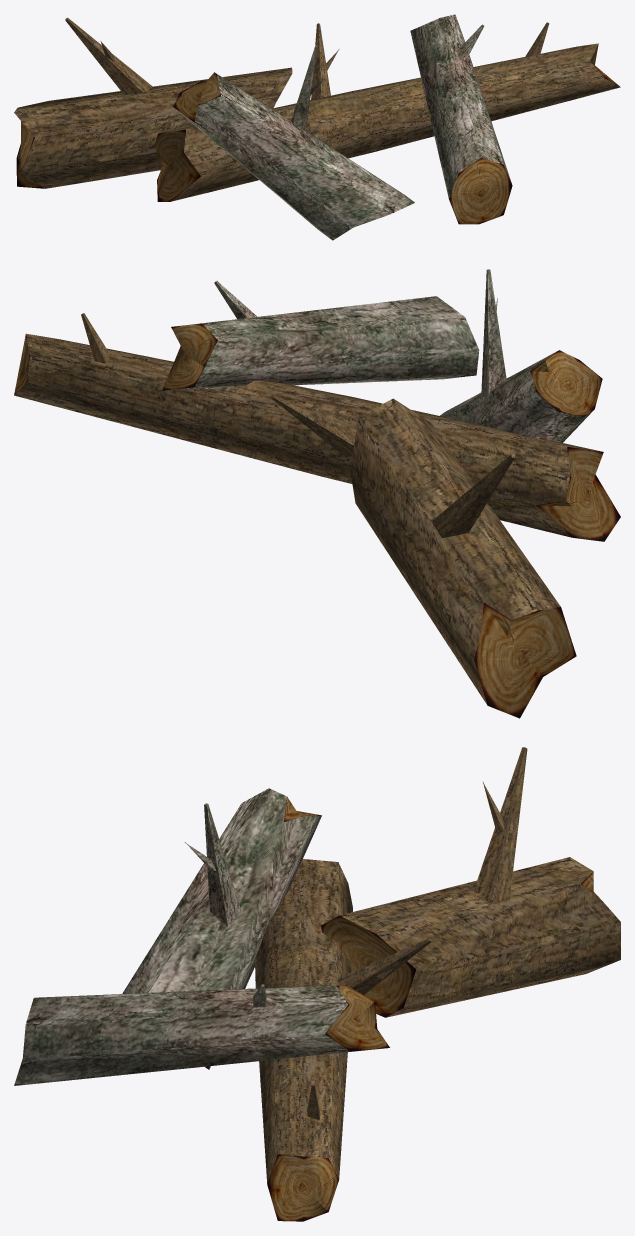
The model's file is gen_log_group03.fbx.
3 views of the same model, one above another, from view 1: azimuth 30°, elevation 25°; view 2: azimuth 150°, elevation 25°; view 3: azimuth 270°, elevation 25° (orthographic). The views are drawn at different scales.
Parts seen in each view (by area): view 1: polycombine, polySurface2, polySurface3, polycombine2; view 2: polycombine, polySurface2, polycombine2, polySurface3; view 3: polySurface2, polycombine2, polycombine, polySurface3.
Boxes of the visible parts, x1,y1,x2,y2 form: polycombine: (154, 22, 620, 201); polySurface2: (14, 17, 292, 188); polySurface3: (173, 45, 414, 240); polycombine2: (410, 14, 512, 224); polycombine: (14, 313, 620, 541); polySurface2: (350, 398, 576, 718); polycombine2: (162, 281, 479, 390); polySurface3: (440, 269, 602, 442); polySurface2: (321, 747, 620, 1017); polycombine2: (14, 984, 389, 1085); polycombine: (255, 859, 431, 1221); polySurface3: (122, 788, 321, 1069).
Size of the model in its own units: 1635 by 617 by 1217.
1 material, 1 textured.
